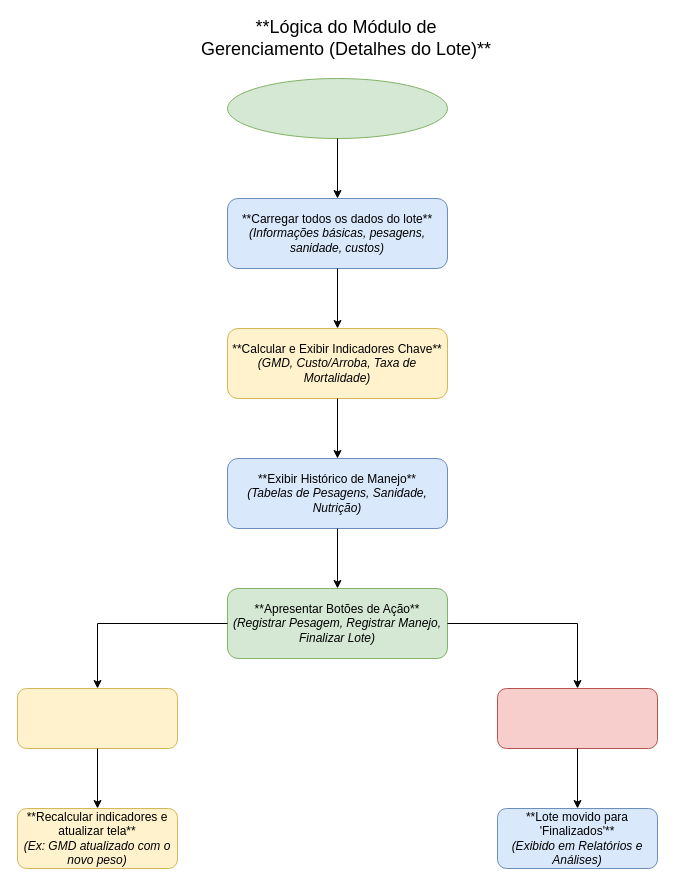
Some shapes in this 675 by 886 pixel diagram are drawn without their labels. The centre of each missing label's shape, as x and y in pixels:
"**Entrada (Usuário seleciona um lote)**" goes at point (337, 108).
"**Finalizar Lote** Confirmar data de venda, peso final, receita." goes at point (577, 718).
"Registrar Nova Pesagem Usuário insere o novo peso e a data." goes at point (97, 718).
